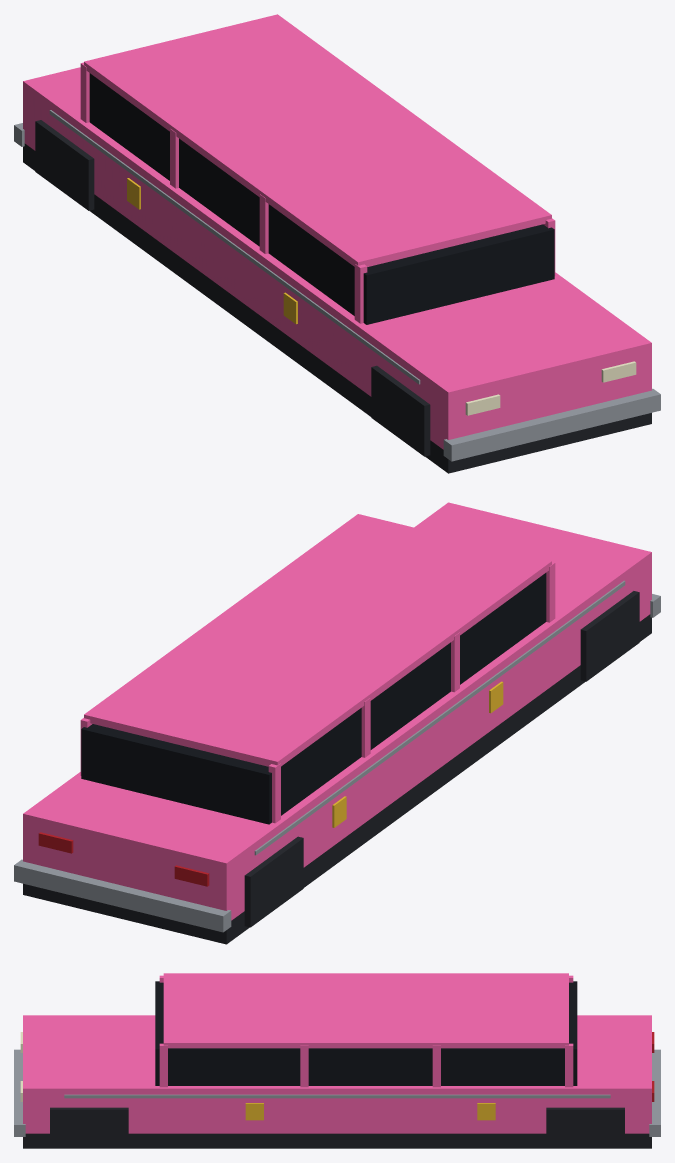
The model's file is limo.glb.
The picture shows the model from 3 angles, top to bottom: view 1: azimuth 30°, elevation 25°; view 2: azimuth 150°, elevation 25°; view 3: azimuth 270°, elevation 25°; orthographic projection. The views are drawn at different scales.
Visible parts, largest first — view 1: body_limo_paint, body_getaway_glass, body_car_black, body_chrome, frame_limo_paint; view 2: body_limo_paint, body_getaway_glass, body_car_black, body_chrome, frame_limo_paint; view 3: body_limo_paint, body_getaway_glass, body_car_black, body_chrome, frame_limo_paint, body_star_gold (×2).
Part boxes in pixels (bbox=[...]): body_limo_paint: bbox=[23, 14, 651, 449]; body_getaway_glass: bbox=[89, 73, 554, 324]; body_car_black: bbox=[23, 120, 651, 473]; body_chrome: bbox=[14, 110, 660, 461]; frame_limo_paint: bbox=[80, 62, 555, 323]; body_limo_paint: bbox=[23, 502, 651, 920]; body_getaway_glass: bbox=[81, 573, 546, 824]; body_car_black: bbox=[23, 591, 651, 944]; body_chrome: bbox=[14, 580, 660, 932]; frame_limo_paint: bbox=[80, 562, 555, 823]; body_limo_paint: bbox=[23, 973, 651, 1133]; body_getaway_glass: bbox=[155, 981, 577, 1085]; body_car_black: bbox=[23, 1107, 651, 1148]; body_chrome: bbox=[14, 1049, 660, 1136]; frame_limo_paint: bbox=[159, 975, 573, 1087]; body_star_gold (×2): bbox=[245, 1103, 495, 1120].
Bounding box in the file's own units: 2.22 × 1.38 × 7.82.
